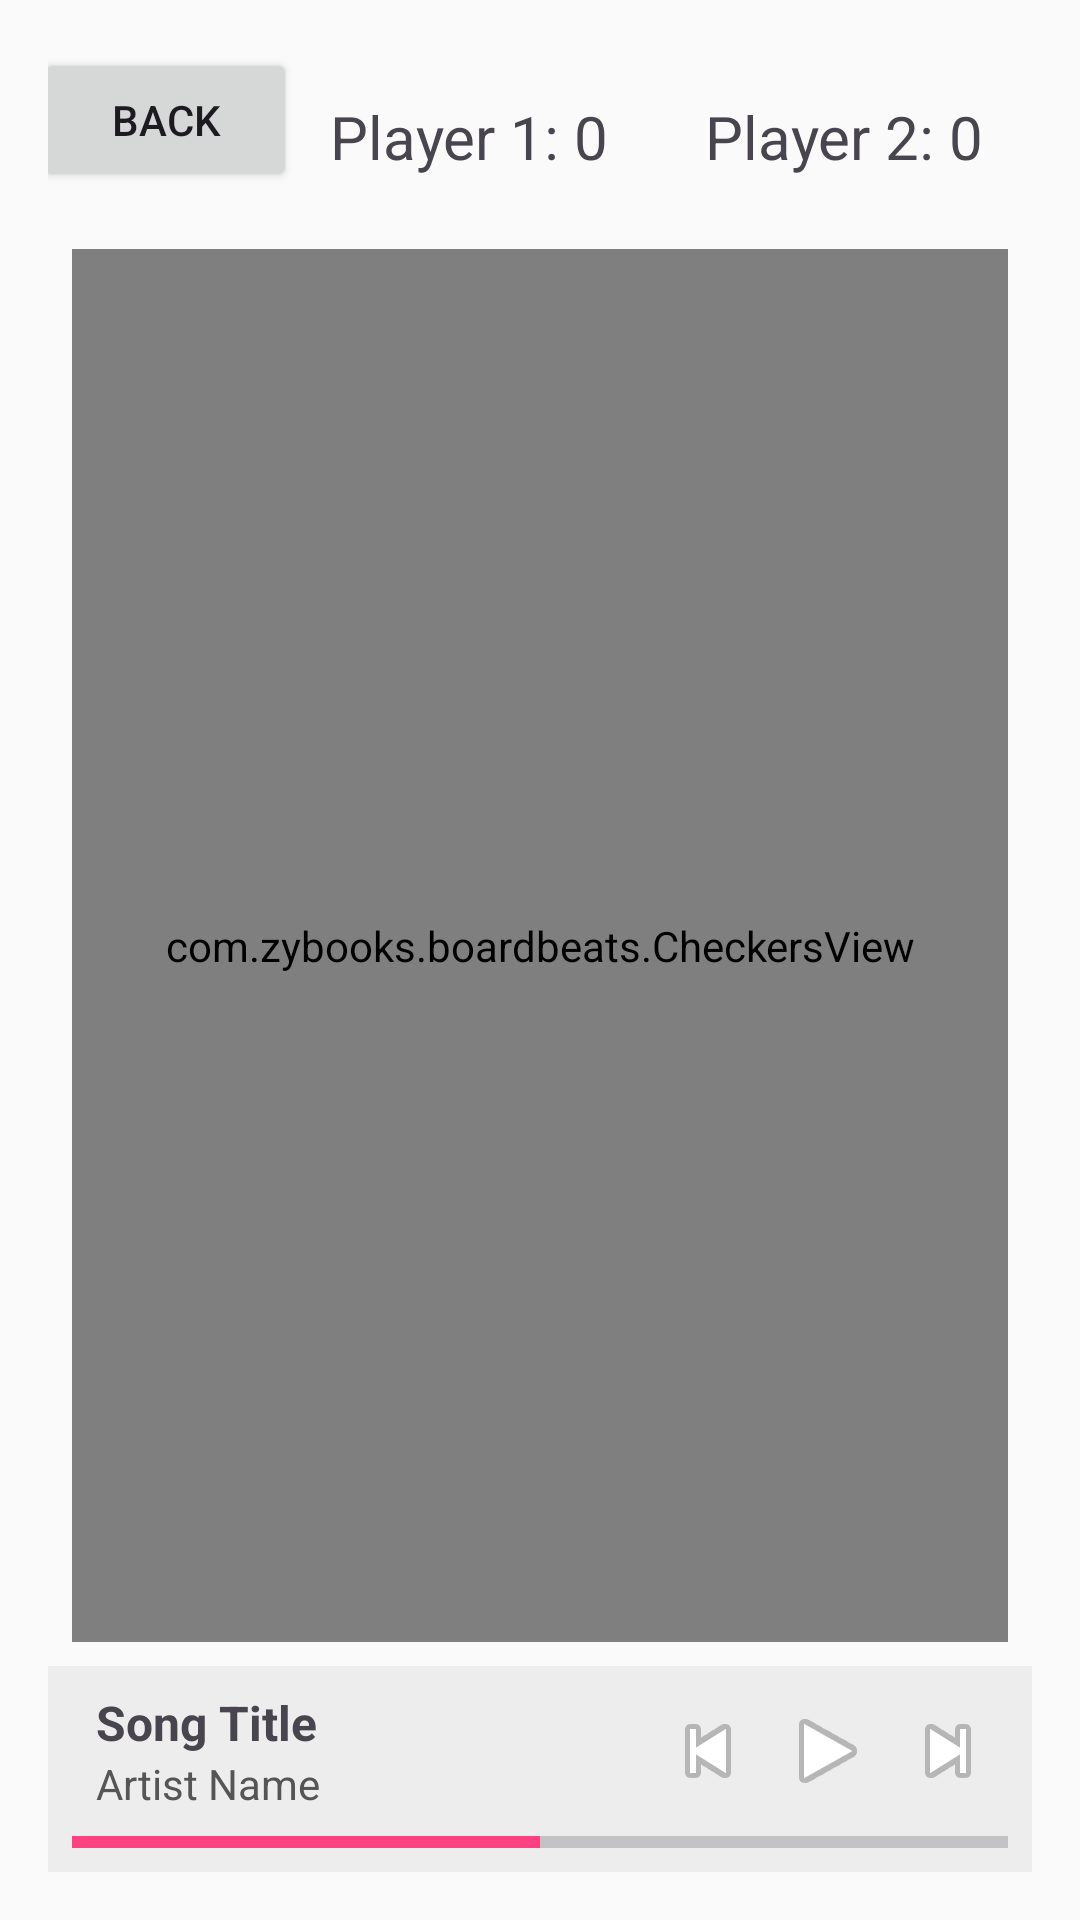

Named icons in this screenshot (1080*1920) and their bounding boxes, (x1,y1,x2,y2):
Next song: (925,1724,971,1778)
Play or pause: (799,1719,857,1783)
Previous song: (685,1724,731,1778)
